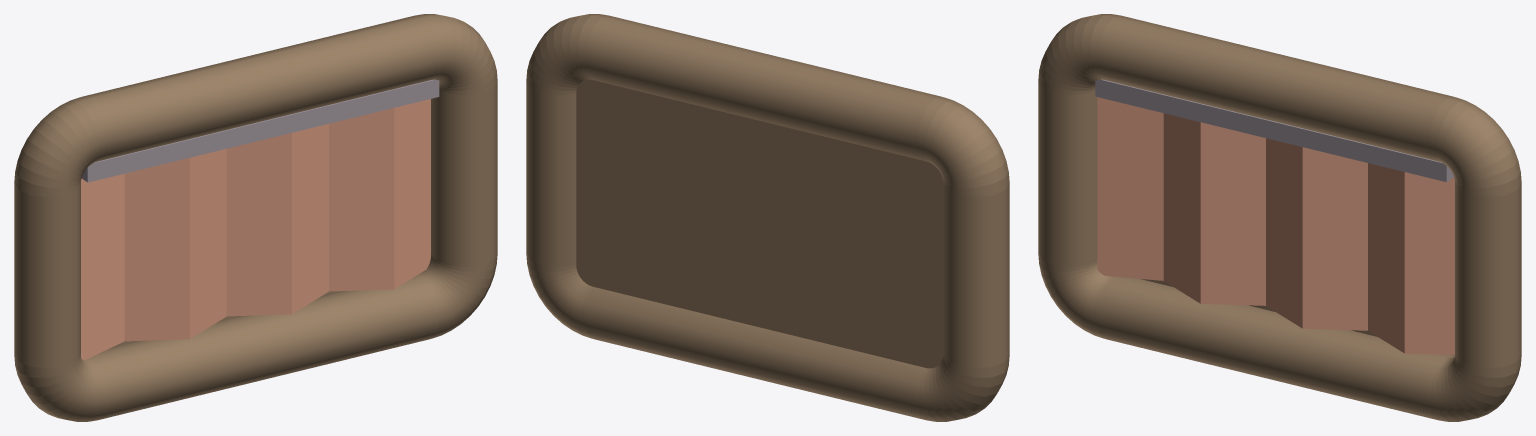
The model's file is jendela bambu.fbx.
The picture shows the model from 3 angles, left to right: view 1: azimuth 30°, elevation 25°; view 2: azimuth 150°, elevation 25°; view 3: azimuth 330°, elevation 25°; orthographic projection.
Parts seen in each view (by area): view 1: Cylinder.038, Plane.001, Cube.008; view 2: Cylinder.038; view 3: Cylinder.038, Plane.001, Cube.008.
Part boxes in pixels (left/top/right/bottom): Cylinder.038: left=14, top=14, right=497, bottom=421; Plane.001: left=81, top=99, right=430, bottom=359; Cube.008: left=81, top=79, right=439, bottom=182; Cylinder.038: left=526, top=14, right=1009, bottom=421; Cylinder.038: left=1038, top=14, right=1521, bottom=421; Plane.001: left=1097, top=97, right=1454, bottom=355; Cube.008: left=1095, top=79, right=1453, bottom=182.
Bounding box in the file's own units: 801 × 515 × 97.35.
